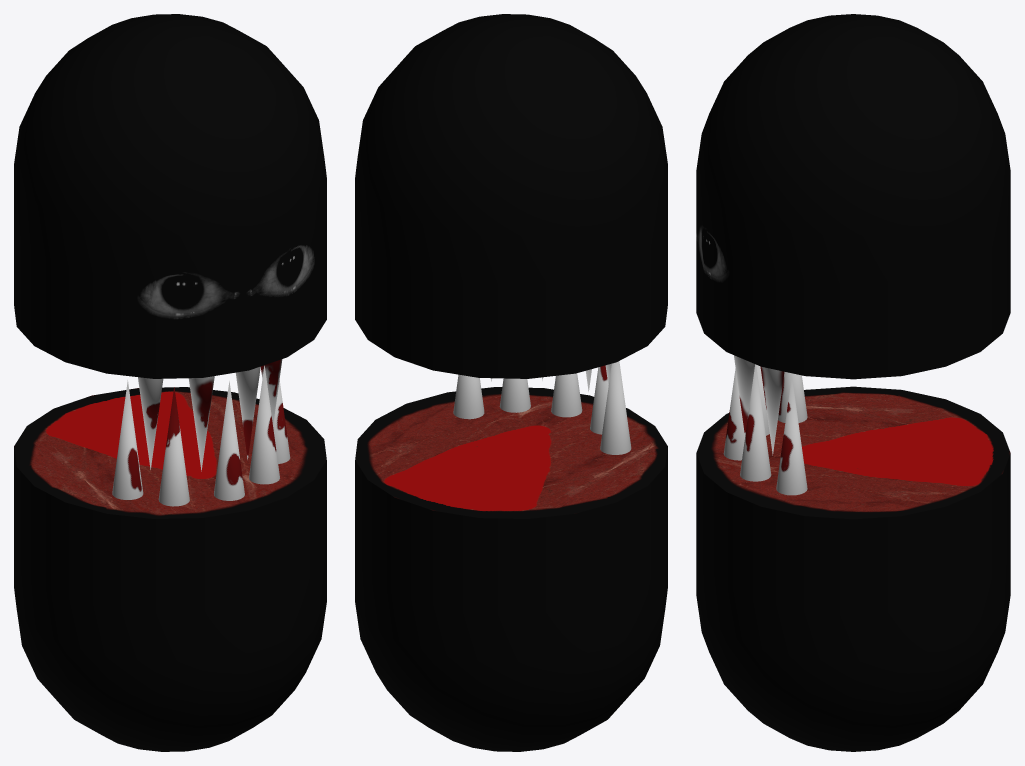
The model's file is Enemytextured.fbx.
3 views of the same model, side by side, from view 1: azimuth 30°, elevation 25°; view 2: azimuth 150°, elevation 25°; view 3: azimuth 270°, elevation 25° (orthographic).
Visible parts, largest first — view 1: TopHalf, BottomHalf, BottomTooth4, BottomTooth5, BottomTooth2, BottomTooth3, TopTooth3, TopTooth4, TopTooth2, BottomTooth1, TopTooth1; view 2: TopHalf, BottomHalf, BottomTooth5, BottomTooth1, BottomTooth3, BottomTooth2, BottomTooth4; view 3: TopHalf, BottomHalf, BottomTooth1, BottomTooth2, BottomTooth3, TopTooth1, BottomTooth5, TopTooth2.
Part boxes in pixels (left/top/right/bottom): TopHalf: left=14, top=14, right=326, bottom=378; BottomHalf: left=14, top=387, right=326, bottom=751; BottomTooth4: left=158, top=387, right=189, bottom=506; BottomTooth5: left=112, top=380, right=143, bottom=499; BottomTooth2: left=249, top=365, right=279, bottom=484; BottomTooth3: left=214, top=381, right=244, bottom=500; TopTooth3: left=188, top=376, right=214, bottom=471; TopTooth4: left=138, top=377, right=163, bottom=469; TopTooth2: left=235, top=366, right=260, bottom=459; BottomTooth1: left=273, top=380, right=290, bottom=463; TopTooth1: left=260, top=359, right=282, bottom=425; TopHalf: left=355, top=14, right=667, bottom=378; BottomHalf: left=355, top=387, right=667, bottom=751; BottomTooth5: left=600, top=361, right=631, bottom=454; BottomTooth1: left=453, top=374, right=484, bottom=419; BottomTooth3: left=551, top=373, right=582, bottom=417; BottomTooth2: left=499, top=378, right=530, bottom=412; BottomTooth4: left=590, top=365, right=608, bottom=434; TopHalf: left=696, top=14, right=1010, bottom=379; BottomHalf: left=696, top=386, right=1010, bottom=751; BottomTooth1: left=776, top=376, right=807, bottom=495; BottomTooth2: left=740, top=364, right=771, bottom=481; BottomTooth3: left=723, top=368, right=744, bottom=460; TopTooth1: left=760, top=366, right=784, bottom=455; BottomTooth5: left=778, top=372, right=807, bottom=422; TopTooth2: left=734, top=355, right=755, bottom=436.
Bounding box in the file's own units: 10 × 24.92 × 10.
